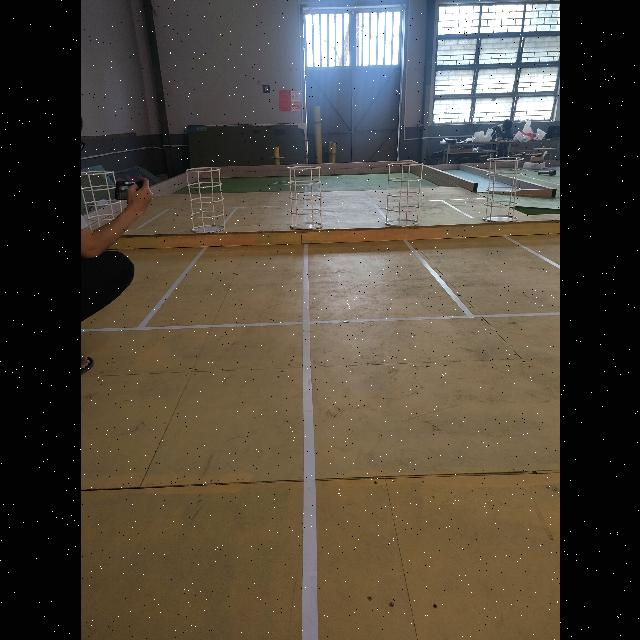S: (481, 156, 524, 223), (184, 166, 225, 234), (384, 162, 424, 228), (80, 170, 122, 230), (286, 165, 323, 231)
